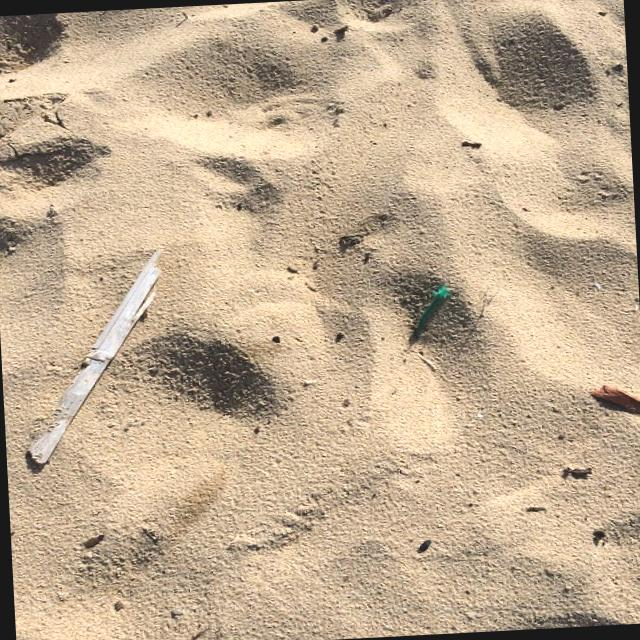Recycle: (16, 246, 178, 470)
